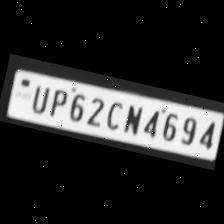2: (82, 94, 108, 128)
4: (194, 115, 220, 151), (139, 104, 164, 140)
6: (63, 90, 89, 124), (156, 108, 181, 142)
9: (175, 112, 201, 147)
C: (100, 96, 125, 132)
N: (119, 99, 146, 136)
P: (44, 85, 70, 120)
U: (27, 80, 52, 115)
